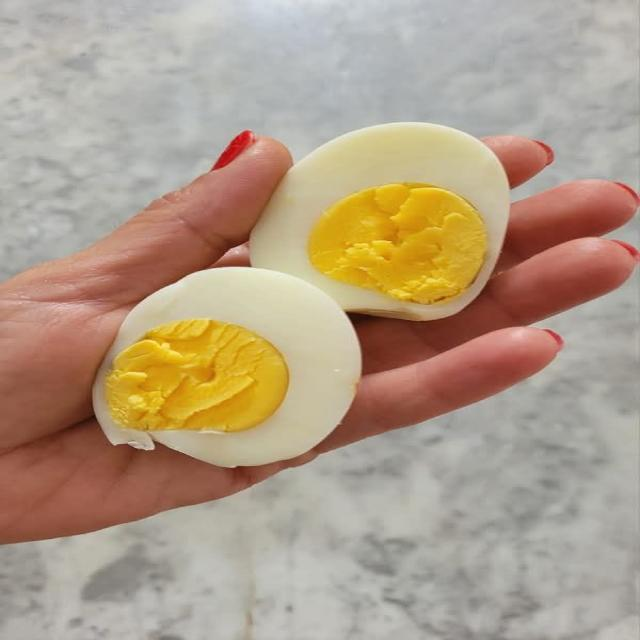egg boiled: (93, 268, 360, 467), (250, 123, 509, 319)
